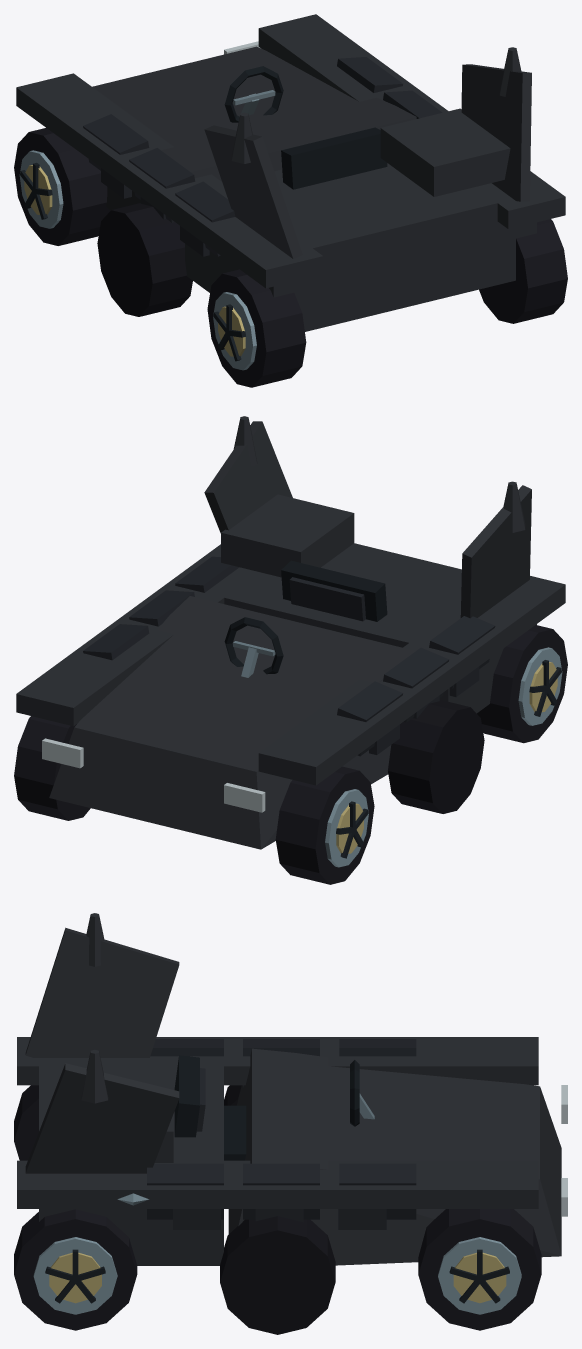
File: kart.glb
The picture shows the model from 3 angles, top to bottom: view 1: azimuth 30°, elevation 25°; view 2: azimuth 150°, elevation 25°; view 3: azimuth 270°, elevation 25°; orthographic projection. The views are drawn at different scales.
Parts seen in each view (by area): view 1: identity-apc-apc-armored-hull, identity-apc-motif-bat-fins, wheel-rear-left, wheel-front-left, identity-apc-motif-armor, identity-apc-driver-cockpit, wheel-rear-right; view 2: identity-apc-apc-armored-hull, identity-apc-motif-bat-fins, wheel-front-left, identity-apc-motif-armor, wheel-rear-left, identity-apc-driver-cockpit, wheel-front-right; view 3: identity-apc-apc-armored-hull, identity-apc-motif-bat-fins, wheel-front-right, wheel-rear-right, identity-apc-motif-armor, identity-apc-driver-cockpit, wheel-rear-left.
Boxes of the visible parts, box(x1,y1,x2,y2) form: identity-apc-apc-armored-hull: box(16, 14, 565, 331); identity-apc-motif-bat-fins: box(204, 47, 531, 258); wheel-rear-left: box(207, 269, 306, 387); wheel-front-left: box(14, 128, 110, 245); identity-apc-motif-armor: box(83, 57, 442, 256); identity-apc-driver-cockpit: box(224, 66, 387, 189); wheel-rear-right: box(479, 219, 567, 323); identity-apc-apc-armored-hull: box(16, 494, 565, 849); identity-apc-motif-bat-fins: box(204, 416, 531, 618); wheel-front-left: box(275, 766, 374, 884); identity-apc-motif-armor: box(83, 556, 495, 756); wheel-rear-left: box(477, 625, 567, 743); identity-apc-driver-cockpit: box(224, 560, 387, 677); wheel-front-right: box(14, 716, 90, 820); identity-apc-apc-armored-hull: box(17, 1037, 567, 1334); identity-apc-motif-bat-fins: box(25, 913, 179, 1173); wheel-front-right: box(418, 1209, 541, 1330); wheel-rear-right: box(14, 1209, 137, 1330); identity-apc-motif-armor: box(147, 1039, 416, 1219); identity-apc-driver-cockpit: box(174, 1055, 374, 1160); wheel-rear-left: box(14, 1085, 38, 1160).
Size of the model in its own units: 2.08 by 1.55 by 2.88.
